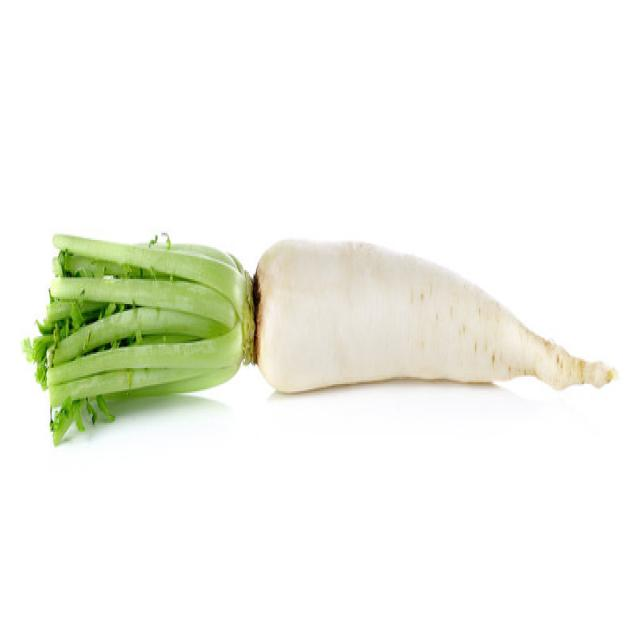Coriander Leaves: (22, 229, 255, 446)
Radish: (22, 228, 617, 444)
